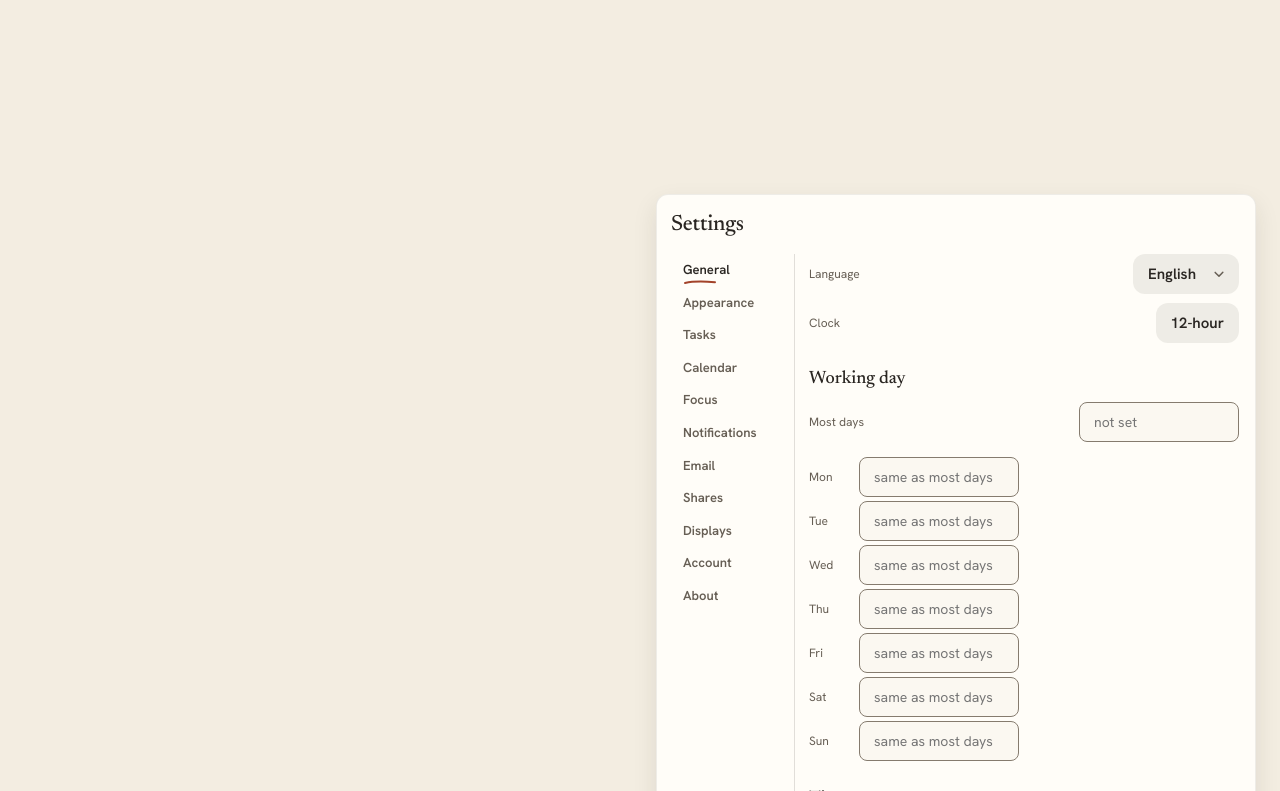
Test: <SettingsMenu> under Field notes › removes the Focus introduction and hints, and keeps the units
(page scrolled)
Click the tab "Focus": (728, 400) [671, 384, 786, 416]
(page scrolled)
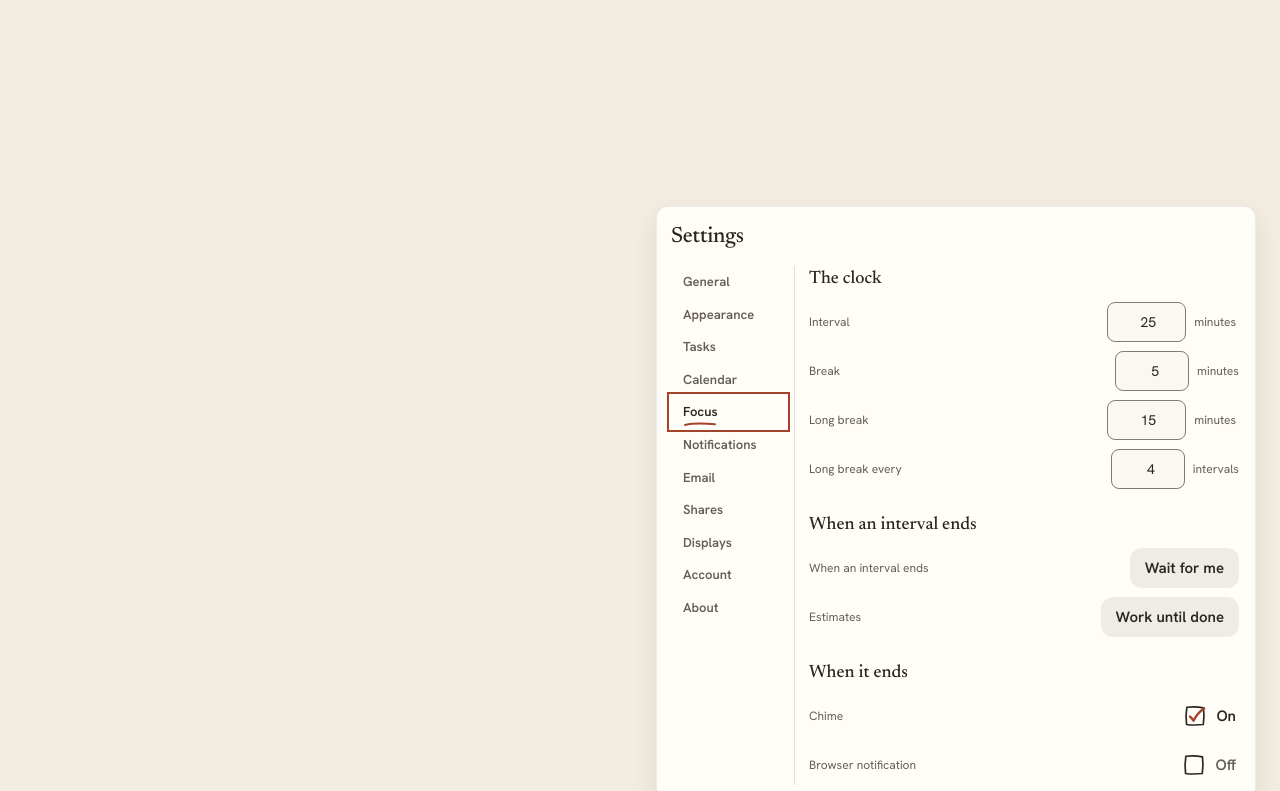
Result: the 1st text "minutes" is shown at [1194, 314, 1236, 330]
Result: the number field labelled "Interval" is shown at [1107, 302, 1186, 342]
